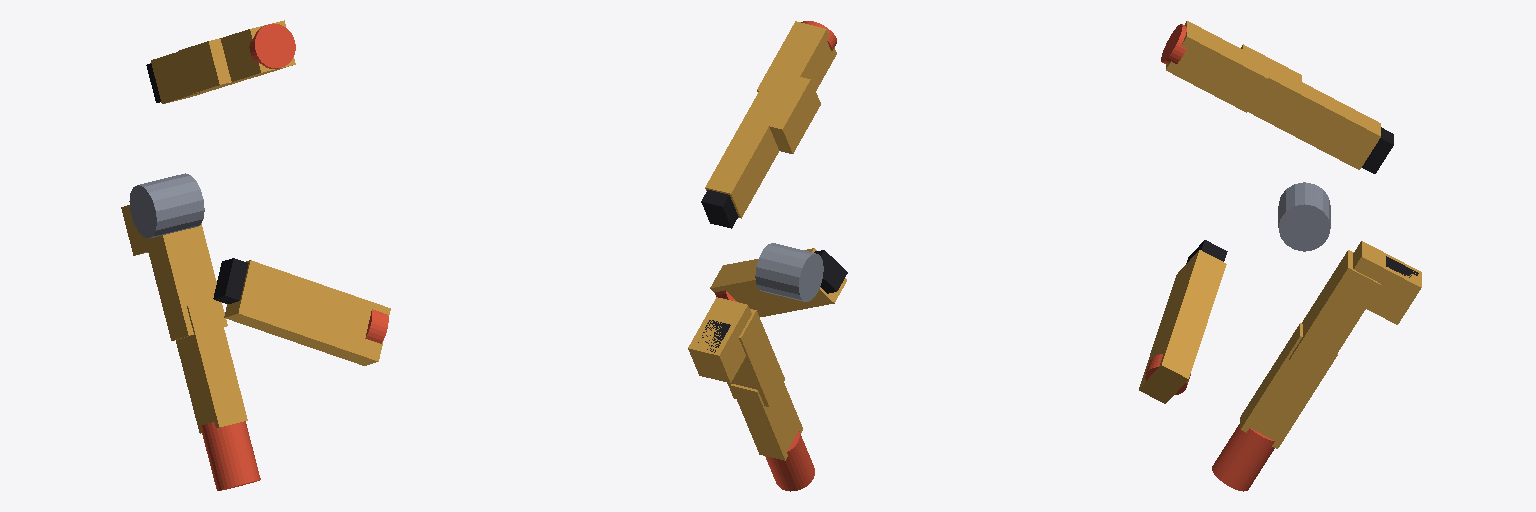
URDF robot description (g0070_c11):
<robot name="g0070_c11">
  <link name="palm">
    <visual name="palm_palm1">
      <origin xyz="0 0 0" rpy="0 0 0" />
      <geometry>
        <mesh filename="palm_palm1.obj" />
      </geometry>
      <material name="palm_palm1_mat">
        <color rgba="0.55 0.57 0.62 1" />
      </material>
    </visual>
    <collision>
      <origin xyz="0 0 0" rpy="0 0 0" />
      <geometry>
        <mesh filename="palm_palm1.obj" />
      </geometry>
    </collision>
    <visual name="palm_mount2">
      <origin xyz="0 0 0" rpy="0 0 0" />
      <geometry>
        <mesh filename="palm_mount2.obj" />
      </geometry>
      <material name="palm_mount2_mat">
        <color rgba="0.55 0.57 0.62 1" />
      </material>
    </visual>
    <collision>
      <origin xyz="0 0 0" rpy="0 0 0" />
      <geometry>
        <mesh filename="palm_mount2.obj" />
      </geometry>
    </collision>
    <visual name="palm_motor3">
      <origin xyz="-0.0127044827 -0.078125 -0.0367524047" rpy="0.713724379 -0.848062079 0.713724379" />
      <geometry>
        <box size="0.029 0.034 0.02" />
      </geometry>
      <material name="palm_motor3_mat">
        <color rgba="0.15 0.15 0.17 1" />
      </material>
    </visual>
    <collision>
      <origin xyz="-0.0127044827 -0.078125 -0.0367524047" rpy="0.713724379 -0.848062079 0.713724379" />
      <geometry>
        <box size="0.029 0.034 0.02" />
      </geometry>
    </collision>
    <visual name="palm_motor4">
      <origin xyz="-0.0045 0.0666996732 -0.0467548095" rpy="1.57079633 -0.523598776 -1.57079633" />
      <geometry>
        <box size="0.029 0.034 0.02" />
      </geometry>
      <material name="palm_motor4_mat">
        <color rgba="0.15 0.15 0.17 1" />
      </material>
    </visual>
    <collision>
      <origin xyz="-0.0045 0.0666996732 -0.0467548095" rpy="1.57079633 -0.523598776 -1.57079633" />
      <geometry>
        <box size="0.029 0.034 0.02" />
      </geometry>
    </collision>
    <visual name="palm_motor5">
      <origin xyz="0 0.0464951905 0.07625" rpy="-1.57079633 -1.04719755 1.57079633" />
      <geometry>
        <box size="0.029 0.034 0.02" />
      </geometry>
      <material name="palm_motor5_mat">
        <color rgba="0.15 0.15 0.17 1" />
      </material>
    </visual>
    <collision>
      <origin xyz="0 0.0464951905 0.07625" rpy="-1.57079633 -1.04719755 1.57079633" />
      <geometry>
        <box size="0.029 0.034 0.02" />
      </geometry>
    </collision>
    <inertial>
      <origin xyz="7.26337783e-20 0.0113867877 -0.0034219661" rpy="-1.57079633 0.650530063 -1.57079633" />
      <mass value="0.850331905" />
      <inertia ixx="0.0011461345" ixy="0" ixz="0" iyy="0.00212520159" iyz="0" izz="0.00318970422" />
    </inertial>
  </link>
  <link name="f0_link0">
    <visual name="f0_link0_link1">
      <origin xyz="0.04625 -0.004 -6.9388939e-18" rpy="2.77555756e-17 2.03184915e-17 -7.43708407e-18" />
      <geometry>
        <box size="0.1165 0.041 0.024" />
      </geometry>
      <material name="f0_link0_link1_mat">
        <color rgba="0.80 0.62 0.30 1" />
      </material>
    </visual>
    <collision>
      <origin xyz="0.04625 -0.004 -6.9388939e-18" rpy="2.77555756e-17 2.03184915e-17 -7.43708407e-18" />
      <geometry>
        <box size="0.1165 0.041 0.024" />
      </geometry>
    </collision>
    <inertial>
      <origin xyz="0.04625 -0.004 0" rpy="0 0 0" />
      <mass value="0.200613" />
      <inertia ixx="3.77319618e-05" ixy="0" ixz="0" iyy="0.000236526906" iyz="0" izz="0.00025500002" />
    </inertial>
  </link>
  <link name="f0_link1">
    <visual name="f0_link1_link1">
      <origin xyz="0.00675 0 0" rpy="-1.57079633 -0 -1.57079633" />
      <geometry>
        <cylinder radius="0.0165" length="0.0135" />
      </geometry>
      <material name="f0_link1_link1_mat">
        <color rgba="0.85 0.35 0.25 1" />
      </material>
    </visual>
    <collision>
      <origin xyz="0.00675 0 0" rpy="-1.57079633 -0 -1.57079633" />
      <geometry>
        <cylinder radius="0.0165" length="0.0135" />
      </geometry>
    </collision>
    <inertial>
      <origin xyz="0.00675 0 0" rpy="0 0 0" />
      <mass value="0.0531354255" />
      <inertia ixx="6.33656788e-06" ixy="0" ixz="0" iyy="9.51908051e-06" iyz="0" izz="9.51908051e-06" />
    </inertial>
  </link>
  <link name="f1_link0">
    <visual name="f1_link0_link1">
      <origin xyz="-0.00625 0 -0.0165" rpy="0 4.06369831e-17 0" />
      <geometry>
        <box size="0.0365 0.029 0.053" />
      </geometry>
      <material name="f1_link0_link1_mat">
        <color rgba="0.80 0.62 0.30 1" />
      </material>
    </visual>
    <collision>
      <origin xyz="-0.00625 0 -0.0165" rpy="0 4.06369831e-17 0" />
      <geometry>
        <box size="0.0365 0.029 0.053" />
      </geometry>
    </collision>
    <inertial>
      <origin xyz="-0.00625 0 -0.0165" rpy="0 0 0" />
      <mass value="0.098175875" />
      <inertia ixx="2.98618286e-05" ixy="0" ixz="0" iyy="3.38809035e-05" iyz="0" izz="1.778006e-05" />
    </inertial>
  </link>
  <link name="f1_link1">
    <visual name="f1_link1_link1">
      <origin xyz="0.03375 0 6.9388939e-18" rpy="0 4.06369831e-17 0" />
      <geometry>
        <box size="0.0915 0.033 0.029" />
      </geometry>
      <material name="f1_link1_link1_mat">
        <color rgba="0.80 0.62 0.30 1" />
      </material>
    </visual>
    <collision>
      <origin xyz="0.03375 0 6.9388939e-18" rpy="0 4.06369831e-17 0" />
      <geometry>
        <box size="0.0915 0.033 0.029" />
      </geometry>
    </collision>
    <inertial>
      <origin xyz="0.03375 0 0" rpy="0 0 0" />
      <mass value="0.153239625" />
      <inertia ixx="2.46460397e-05" ixy="0" ixz="0" iyy="0.000117652915" iyz="0" izz="0.000120819867" />
    </inertial>
  </link>
  <link name="f1_link2">
    <visual name="f1_link2_link1">
      <origin xyz="0.03375 0 -1.38777878e-17" rpy="0 4.06369831e-17 0" />
      <geometry>
        <box size="0.0915 0.024 0.033" />
      </geometry>
      <material name="f1_link2_link1_mat">
        <color rgba="0.80 0.62 0.30 1" />
      </material>
    </visual>
    <collision>
      <origin xyz="0.03375 0 -1.38777878e-17" rpy="0 4.06369831e-17 0" />
      <geometry>
        <box size="0.0915 0.024 0.033" />
      </geometry>
    </collision>
    <inertial>
      <origin xyz="0.03375 0 0" rpy="0 0 0" />
      <mass value="0.126819" />
      <inertia ixx="1.75961363e-05" ixy="0" ixz="0" iyy="9.99888553e-05" iyz="0" izz="9.45673431e-05" />
    </inertial>
  </link>
  <link name="f1_link3">
    <visual name="f1_link3_link1">
      <origin xyz="0.029 0 1.04083409e-17" rpy="-1.57079633 -0 -1.57079633" />
      <geometry>
        <cylinder radius="0.0165" length="0.049" />
      </geometry>
      <material name="f1_link3_link1_mat">
        <color rgba="0.85 0.35 0.25 1" />
      </material>
    </visual>
    <collision>
      <origin xyz="0.029 0 1.04083409e-17" rpy="-1.57079633 -0 -1.57079633" />
      <geometry>
        <cylinder radius="0.0165" length="0.049" />
      </geometry>
    </collision>
    <inertial>
      <origin xyz="0.029 0 0" rpy="0 0 0" />
      <mass value="0.106270851" />
      <inertia ixx="1.35696277e-05" ixy="0" ixz="0" iyy="5.30015704e-05" iyz="0" izz="5.30015704e-05" />
    </inertial>
  </link>
  <link name="f2_link0">
    <visual name="f2_link0_link1">
      <origin xyz="0.03375 0 0" rpy="0 7.03853194e-17 0" />
      <geometry>
        <box size="0.0915 0.024 0.033" />
      </geometry>
      <material name="f2_link0_link1_mat">
        <color rgba="0.80 0.62 0.30 1" />
      </material>
    </visual>
    <collision>
      <origin xyz="0.03375 0 0" rpy="0 7.03853194e-17 0" />
      <geometry>
        <box size="0.0915 0.024 0.033" />
      </geometry>
    </collision>
    <inertial>
      <origin xyz="0.03375 0 0" rpy="0 0 0" />
      <mass value="0.126819" />
      <inertia ixx="1.75961363e-05" ixy="0" ixz="0" iyy="9.99888553e-05" iyz="0" izz="9.45673431e-05" />
    </inertial>
  </link>
  <link name="f2_link1">
    <visual name="f2_link1_link1">
      <origin xyz="0.014 -0.00625 -1.38777878e-17" rpy="0 7.03853194e-17 0" />
      <geometry>
        <box size="0.052 0.0365 0.033" />
      </geometry>
      <material name="f2_link1_link1_mat">
        <color rgba="0.80 0.62 0.30 1" />
      </material>
    </visual>
    <collision>
      <origin xyz="0.014 -0.00625 -1.38777878e-17" rpy="0 7.03853194e-17 0" />
      <geometry>
        <box size="0.052 0.0365 0.033" />
      </geometry>
    </collision>
    <inertial>
      <origin xyz="0.014 -0.00625 0" rpy="0 0 0" />
      <mass value="0.1096095" />
      <inertia ixx="2.21160002e-05" ixy="0" ixz="0" iyy="3.46457361e-05" iyz="0" izz="3.6867612e-05" />
    </inertial>
  </link>
  <link name="f2_link2">
    <visual name="f2_link2_link1">
      <origin xyz="0.02375 0 -1.38777878e-17" rpy="0 7.03853194e-17 0" />
      <geometry>
        <box size="0.0715 0.029 0.033" />
      </geometry>
      <material name="f2_link2_link1_mat">
        <color rgba="0.80 0.62 0.30 1" />
      </material>
    </visual>
    <collision>
      <origin xyz="0.02375 0 -1.38777878e-17" rpy="0 7.03853194e-17 0" />
      <geometry>
        <box size="0.0715 0.029 0.033" />
      </geometry>
    </collision>
    <inertial>
      <origin xyz="0.02375 0 0" rpy="0 0 0" />
      <mass value="0.119744625" />
      <inertia ixx="1.92589272e-05" ixy="0" ixz="0" iyy="6.18805296e-05" iyz="0" izz="5.94058074e-05" />
    </inertial>
  </link>
  <link name="f2_link3">
    <visual name="f2_link3_link1">
      <origin xyz="0.009 0 0" rpy="-1.57079633 -0 -1.57079633" />
      <geometry>
        <cylinder radius="0.0165" length="0.009" />
      </geometry>
      <material name="f2_link3_link1_mat">
        <color rgba="0.85 0.35 0.25 1" />
      </material>
    </visual>
    <collision>
      <origin xyz="0.009 0 0" rpy="-1.57079633 -0 -1.57079633" />
      <geometry>
        <cylinder radius="0.0165" length="0.009" />
      </geometry>
    </collision>
    <inertial>
      <origin xyz="0.009 0 0" rpy="0 0 0" />
      <mass value="0.046399949" />
      <inertia ixx="5.41970115e-06" ixy="0" ixz="0" iyy="7.09430898e-06" iyz="0" izz="7.09430898e-06" />
    </inertial>
  </link>
  <joint name="f0_j0" type="revolute">
    <parent link="palm" />
    <child link="f0_link0" />
    <origin xyz="-0.00620929214 -0.08 -0.04" rpy="0.982793723 0.447832397 -0.281034902" />
    <axis xyz="0 1 6.123234e-17" />
    <limit effort="0.5" lower="-0.523598776" upper="0.523598776" velocity="5" />
    <dynamics damping="0.0775033" friction="0" />
  </joint>
  <joint name="f0_j1" type="revolute">
    <parent link="f0_link0" />
    <child link="f0_link1" />
    <origin xyz="0.09 0 0" rpy="0 0 0" />
    <axis xyz="1 0 6.123234e-17" />
    <limit effort="0.5" lower="-1.57079633" upper="1.57079633" velocity="5" />
    <dynamics damping="0.0775033" friction="0" />
  </joint>
  <joint name="f1_j0" type="revolute">
    <parent link="palm" />
    <child link="f1_link0" />
    <origin xyz="-0.0045 0.04 -0.04" rpy="0 1.04719755 -1.57079633" />
    <axis xyz="0 0 1" />
    <limit effort="0.5" lower="-0.523598776" upper="1.57079633" velocity="5" />
    <dynamics damping="0.0775033" friction="0" />
  </joint>
  <joint name="f1_j1" type="revolute">
    <parent link="f1_link0" />
    <child link="f1_link1" />
    <origin xyz="0 0 0" rpy="0 0 0" />
    <axis xyz="0 1 6.123234e-17" />
    <limit effort="0.5" lower="-0.523598776" upper="0.523598776" velocity="5" />
    <dynamics damping="0.0775033" friction="0" />
  </joint>
  <joint name="f1_j2" type="revolute">
    <parent link="f1_link1" />
    <child link="f1_link2" />
    <origin xyz="0.07 0 0" rpy="0 0 0" />
    <axis xyz="0 0 1" />
    <limit effort="0.5" lower="-0.523598776" upper="1.57079633" velocity="5" />
    <dynamics damping="0.0775033" friction="0" />
  </joint>
  <joint name="f1_j3" type="revolute">
    <parent link="f1_link2" />
    <child link="f1_link3" />
    <origin xyz="0.07 0 0" rpy="0 0 0" />
    <axis xyz="0 0 1" />
    <limit effort="0.5" lower="-0.523598776" upper="1.57079633" velocity="5" />
    <dynamics damping="0.0775033" friction="0" />
  </joint>
  <joint name="f2_j0" type="revolute">
    <parent link="palm" />
    <child link="f2_link0" />
    <origin xyz="0 0.04 0.08" rpy="-0 -0.523598776 -1.57079633" />
    <axis xyz="0 0 1" />
    <limit effort="0.5" lower="-0.523598776" upper="1.57079633" velocity="5" />
    <dynamics damping="0.0775033" friction="0" />
  </joint>
  <joint name="f2_j1" type="revolute">
    <parent link="f2_link0" />
    <child link="f2_link1" />
    <origin xyz="0.07 0 0" rpy="0 0 0" />
    <axis xyz="0 0 1" />
    <limit effort="0.5" lower="-0.523598776" upper="1.57079633" velocity="5" />
    <dynamics damping="0.0775033" friction="0" />
  </joint>
  <joint name="f2_j2" type="revolute">
    <parent link="f2_link1" />
    <child link="f2_link2" />
    <origin xyz="0.03 0 0" rpy="0 0 0" />
    <axis xyz="0 0 1" />
    <limit effort="0.5" lower="-0.523598776" upper="1.57079633" velocity="5" />
    <dynamics damping="0.0775033" friction="0" />
  </joint>
  <joint name="f2_j3" type="revolute">
    <parent link="f2_link2" />
    <child link="f2_link3" />
    <origin xyz="0.05 0 0" rpy="0 0 0" />
    <axis xyz="-0 -1 -6.123234e-17" />
    <limit effort="0.5" lower="-0.523598776" upper="0.523598776" velocity="5" />
    <dynamics damping="0.0775033" friction="0" />
  </joint>
</robot>

--- What the picture shows (computed from the rendered views, not written in the file) ---
3 views of the same robot in one strip: view 1: azimuth 30°, elevation 25°; view 2: azimuth 150°, elevation 25°; view 3: azimuth 270°, elevation 25° (orthographic).
Model g0070_c11 with 11 links and 10 joints (10 revolute), rooted at palm, posed all joints at 0.
Visible links, largest first — view 1: f0_link0, f1_link2, f1_link1, palm, f1_link3, f2_link1, f2_link3, f2_link2, f2_link0, f1_link0, f0_link1; view 2: palm, f2_link0, f2_link2, f1_link0, f1_link2, f2_link1, f0_link0, f1_link1, f1_link3; view 3: f0_link0, f2_link0, f1_link1, f2_link2, palm, f1_link2, f1_link0, f1_link3, f2_link1, f2_link3.
Boxes of the visible links, <box> form: f0_link0: <box>224,260,390,365</box>; f1_link2: <box>176,299,247,433</box>; f1_link1: <box>145,223,227,340</box>; palm: <box>129,63,248,303</box>; f1_link3: <box>200,421,260,490</box>; f2_link1: <box>178,38,243,94</box>; f2_link3: <box>249,23,295,68</box>; f2_link2: <box>220,20,295,85</box>; f2_link0: <box>151,52,240,103</box>; f1_link0: <box>121,205,147,255</box>; f0_link1: <box>365,309,388,343</box>; palm: <box>698,190,847,352</box>; f2_link0: <box>705,99,778,218</box>; f2_link2: <box>757,21,836,97</box>; f1_link0: <box>688,297,751,382</box>; f1_link2: <box>731,383,802,460</box>; f2_link1: <box>743,77,820,153</box>; f0_link0: <box>710,248,846,316</box>; f1_link1: <box>727,309,784,406</box>; f1_link3: <box>765,431,814,491</box>; f0_link0: <box>1139,250,1226,403</box>; f2_link0: <box>1257,71,1380,169</box>; f1_link1: <box>1289,250,1380,378</box>; f2_link2: <box>1166,21,1267,112</box>; palm: <box>1186,127,1418,277</box>; f1_link2: <box>1240,323,1337,448</box>; f1_link0: <box>1353,241,1421,324</box>; f1_link3: <box>1212,424,1274,491</box>; f2_link1: <box>1241,44,1301,127</box>; f2_link3: <box>1161,24,1186,64</box>.
Size in the robot's own frame: 0.1445 by 0.2166 by 0.3919 metres.
1 mesh visuals loaded from 2 distinct referenced files (1 OBJ); not drawn: 1 (reference not matched to a file when rendering).
